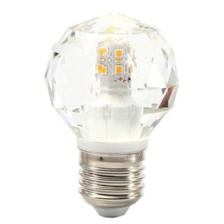light_bulb: (42, 8, 184, 219)
